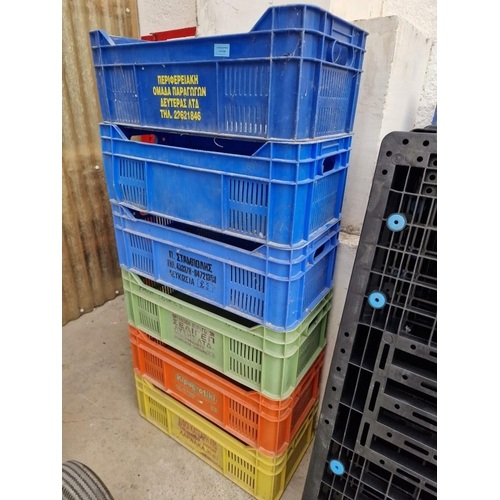bulk_waste: (90, 5, 366, 141), (101, 123, 350, 248), (113, 202, 337, 328), (122, 269, 330, 399), (129, 325, 320, 454), (136, 371, 316, 498)
